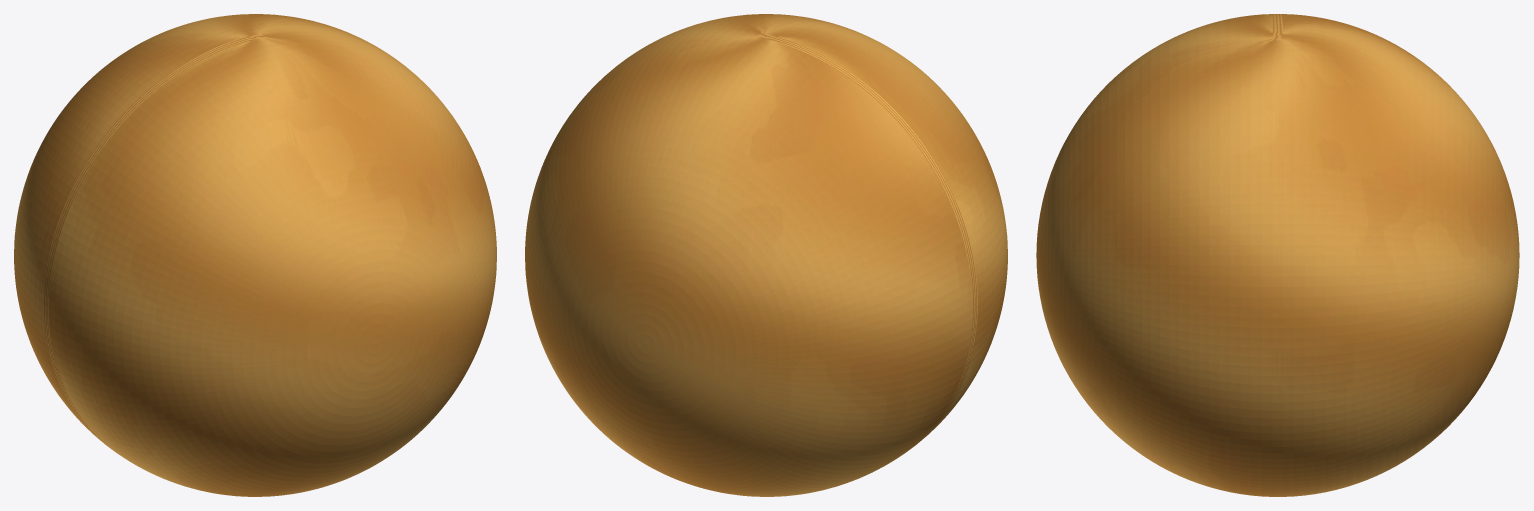
The model's file is venus.glb.
3 views of the same model, side by side, from view 1: azimuth 30°, elevation 25°; view 2: azimuth 150°, elevation 25°; view 3: azimuth 270°, elevation 25° (orthographic).
Visible parts, largest first — view 1: world; view 2: world; view 3: world.
Boxes of the visible parts, bbox=[...] form: world: bbox=[14, 14, 496, 496]; world: bbox=[525, 14, 1007, 496]; world: bbox=[1036, 14, 1519, 496].
Size of the model in its own units: 2 by 2 by 2.
1 material, 1 textured.
